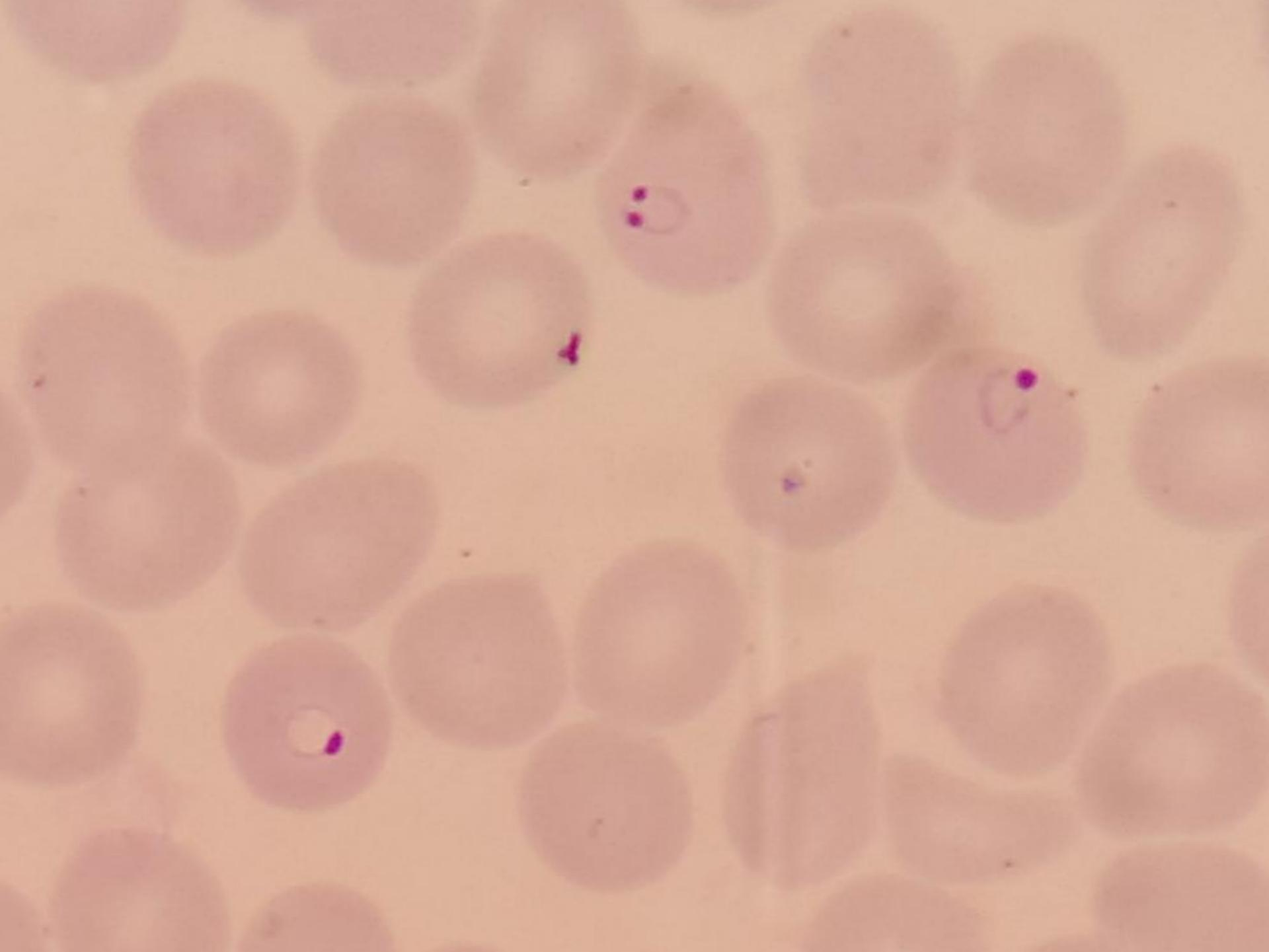Infected: (601, 80, 765, 286), (904, 346, 1081, 524), (218, 636, 387, 809)
Uninfected: (719, 663, 883, 886), (245, 455, 439, 632), (763, 203, 960, 374), (1079, 664, 1269, 838), (406, 232, 591, 409), (939, 582, 1112, 768), (574, 537, 743, 724), (13, 286, 188, 463), (55, 445, 245, 606), (1084, 149, 1232, 355), (388, 572, 563, 746), (793, 15, 949, 208), (720, 372, 891, 546), (519, 722, 694, 888), (127, 78, 291, 252), (476, 5, 634, 180), (963, 42, 1118, 220), (866, 755, 1083, 879), (0, 600, 139, 791), (317, 101, 476, 266), (1130, 354, 1269, 529), (195, 312, 360, 459), (43, 828, 229, 952), (1099, 841, 1269, 952)
